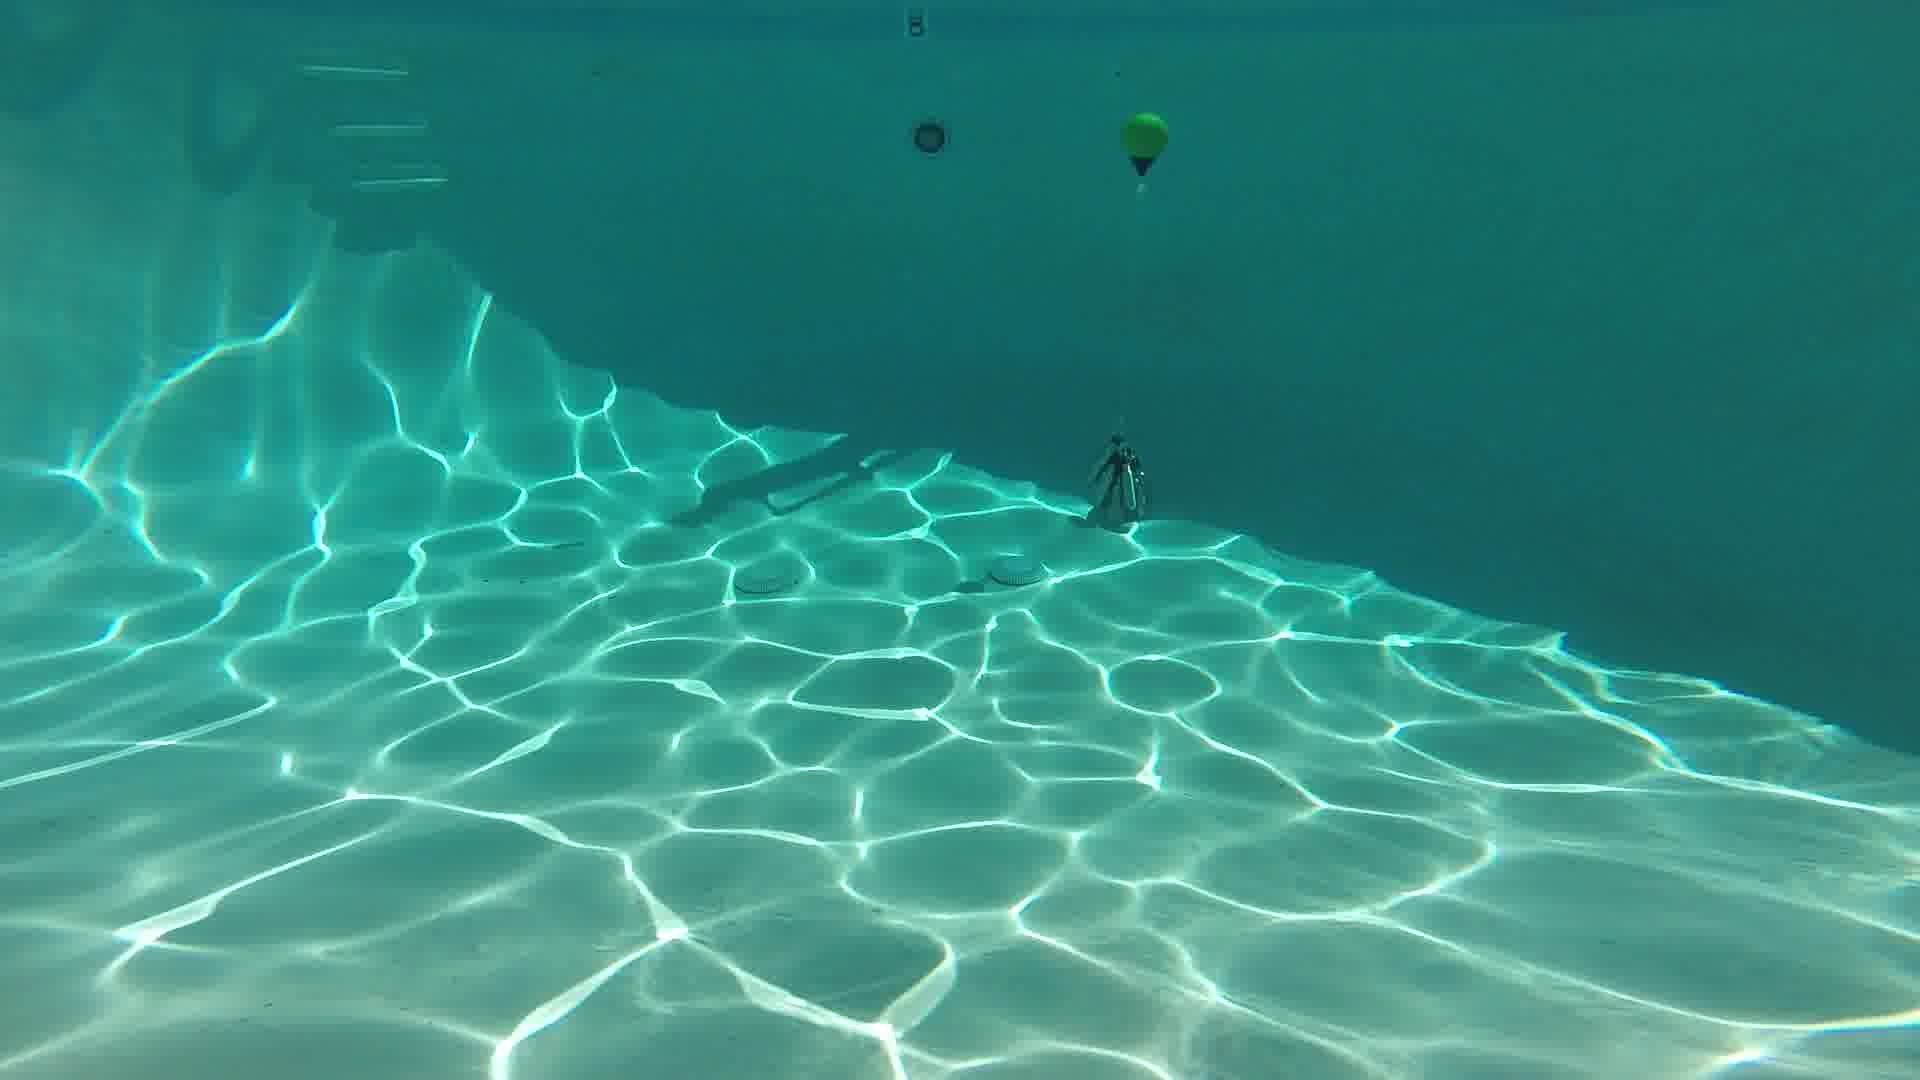yellow_buoy: (1122, 112, 1168, 177)
